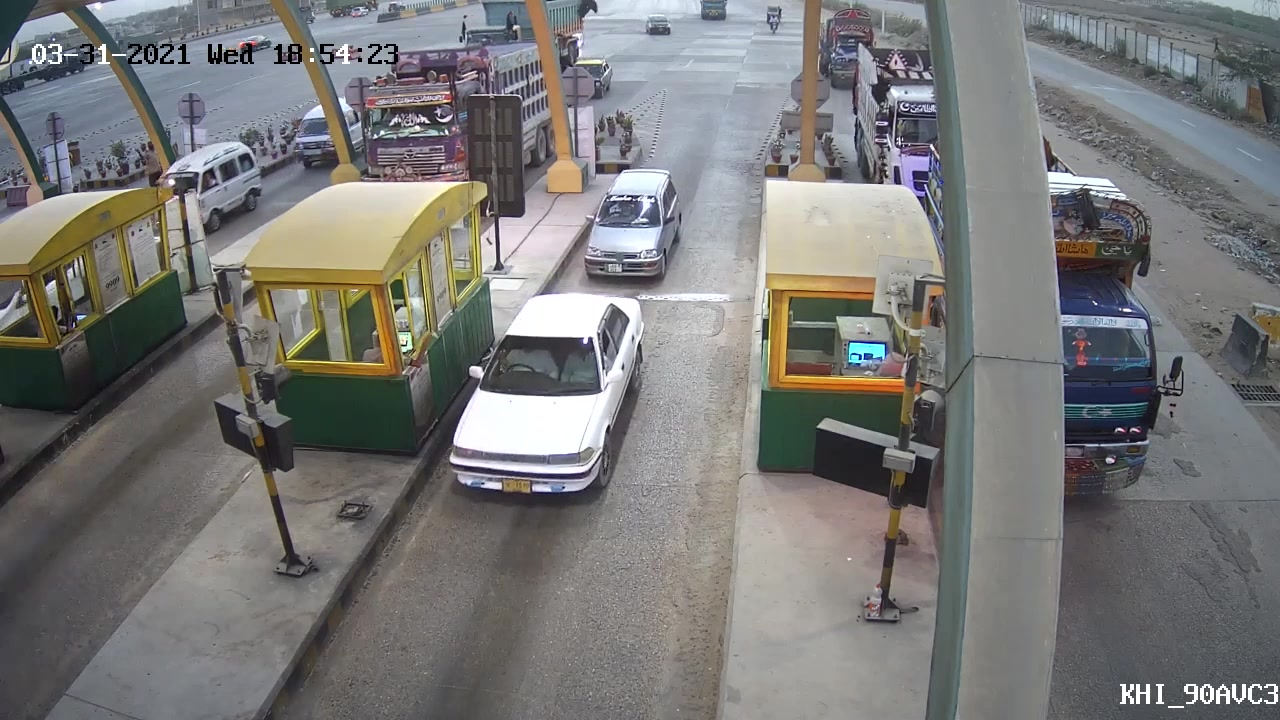F1: (444, 290, 651, 507), (576, 164, 694, 281)
